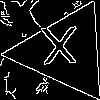X: (39, 26, 80, 74)
